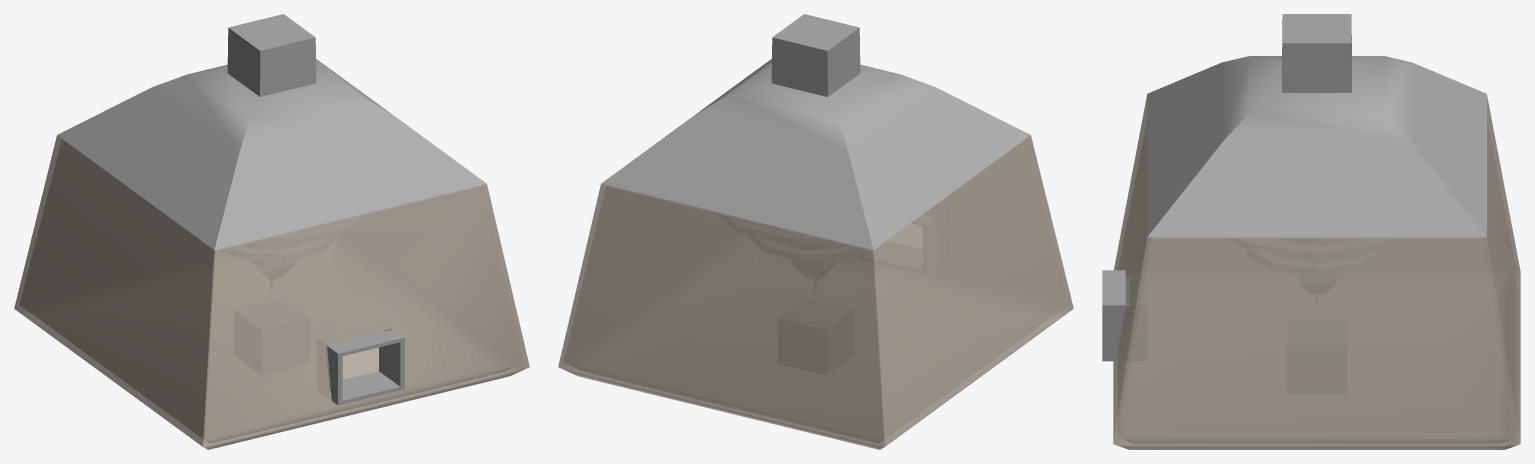
File: Energizer.fbx
3 renders of one model, left to right at view 1: azimuth 30°, elevation 25°; view 2: azimuth 150°, elevation 25°; view 3: azimuth 270°, elevation 25°, orthographic. The views are drawn at different scales.
Visible parts, largest first — view 1: Energizer; view 2: Energizer; view 3: Energizer.
Boxes of the visible parts, <box> form: Energizer: <box>14,14,529,449</box>; Energizer: <box>558,14,1073,449</box>; Energizer: <box>1102,14,1520,449</box>.
Bounding box in the file's own units: 8.89 × 8.59 × 9.13.
